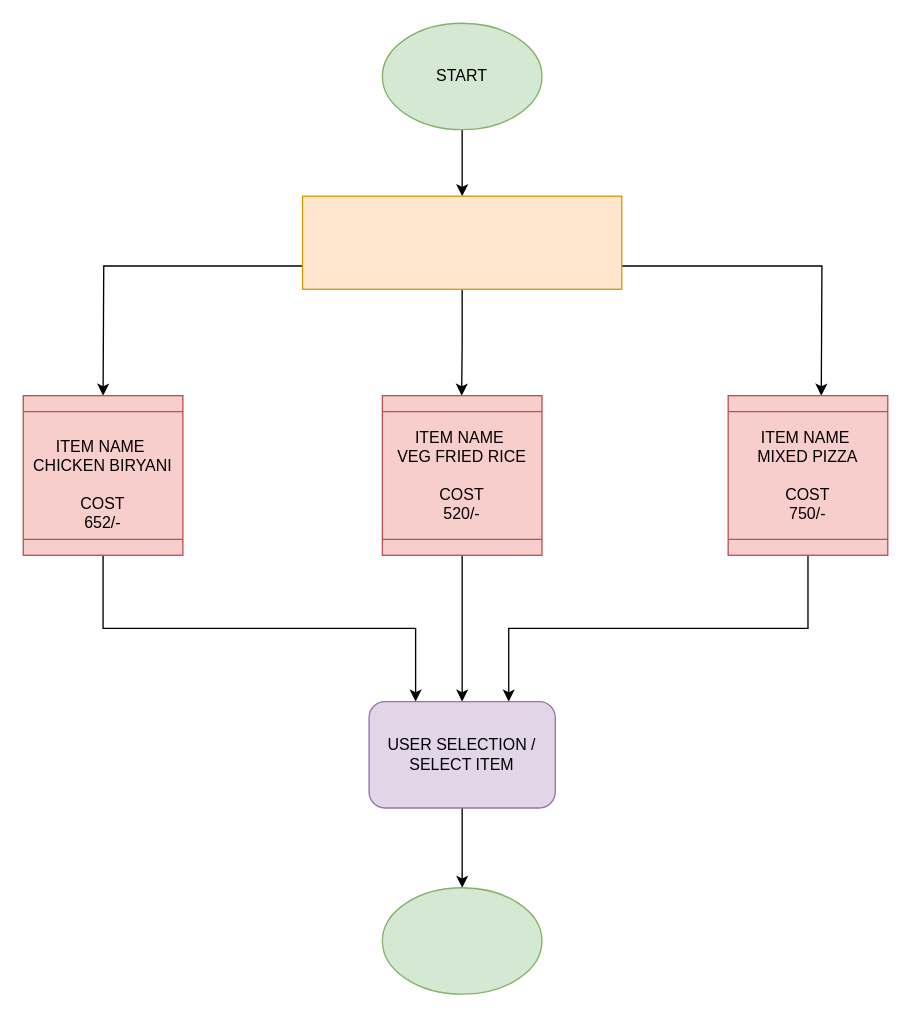
This 911x1017 diagram has some shape labels left out. Here are the shapes that lost their labels. From the top down, the box of each, then its label:
(301, 195, 622, 289): FOOD MENU CARD
(381, 886, 542, 994): END
